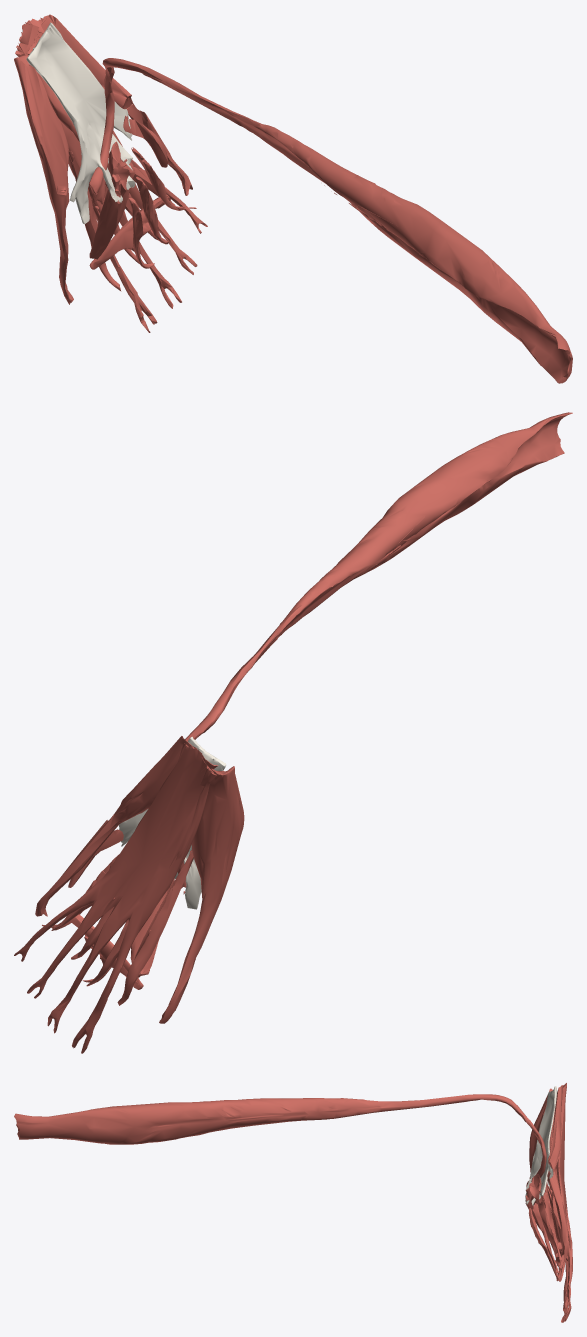
Rendered from footm.glb.
3 renders of one model, top to bottom at view 1: azimuth 30°, elevation 25°; view 2: azimuth 150°, elevation 25°; view 3: azimuth 270°, elevation 25°, orthographic. The views are drawn at different scales.
Parts seen in each view (by area): view 1: left fibularis longus, left long plantar ligament, left abductor hallucis, left flexor digitorum brevis, abductor digiti minimi of left foot, oblique head of left adductor hallucis, transverse head of left adductor hallucis, opponens digiti minimi of left foot, first lumbrical of left foot, second plantar interosseous of left foot, third plantar interosseous of left foot, first plantar interosseous of left foot (+1 smaller); view 2: left flexor digitorum brevis, left fibularis longus, left abductor hallucis, abductor digiti minimi of left foot, first lumbrical of left foot, left long plantar ligament; view 3: left fibularis longus, abductor digiti minimi of left foot, left flexor digitorum brevis, left long plantar ligament, oblique head of left adductor hallucis, left abductor hallucis, first plantar interosseous of left foot, third plantar interosseous of left foot, second plantar interosseous of left foot.
Part boxes in pixels (x1,y1,x2,y2): left fibularis longus: (89,58,572,383); left long plantar ligament: (26,22,135,223); left abductor hallucis: (14,55,73,304); left flexor digitorum brevis: (15,17,207,332); abductor digiti minimi of left foot: (26,14,192,195); oblique head of left adductor hallucis: (89,141,135,259); transverse head of left adductor hallucis: (89,194,170,269); opponens digiti minimi of left foot: (123,115,167,167); first lumbrical of left foot: (68,150,121,291); second plantar interosseous of left foot: (135,176,168,244); third plantar interosseous of left foot: (131,147,196,210); first plantar interosseous of left foot: (128,198,154,268); left flexor digitorum brevis: (14,743,216,1053); left fibularis longus: (178,412,572,894); left abductor hallucis: (159,766,244,1023); abductor digiti minimi of left foot: (35,736,218,916); first lumbrical of left foot: (117,850,193,1005); left long plantar ligament: (119,736,226,909); left fibularis longus: (14,1094,546,1186); abductor digiti minimi of left foot: (548,1085,568,1256); left flexor digitorum brevis: (556,1083,572,1322); left long plantar ligament: (525,1086,556,1205); oblique head of left adductor hallucis: (525,1174,558,1249); left abductor hallucis: (529,1088,559,1266); first plantar interosseous of left foot: (528,1208,559,1280); third plantar interosseous of left foot: (543,1191,561,1265); second plantar interosseous of left foot: (532,1203,558,1273).
Size of the model in its own units: 110 by 177 by 425.
